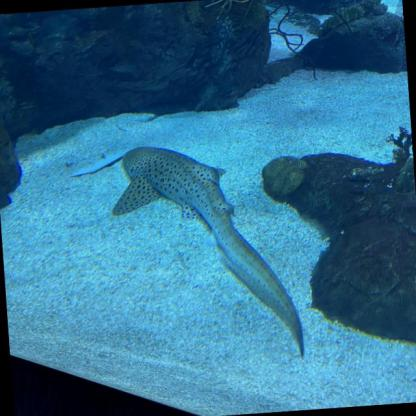fish: (109, 132, 317, 367)
